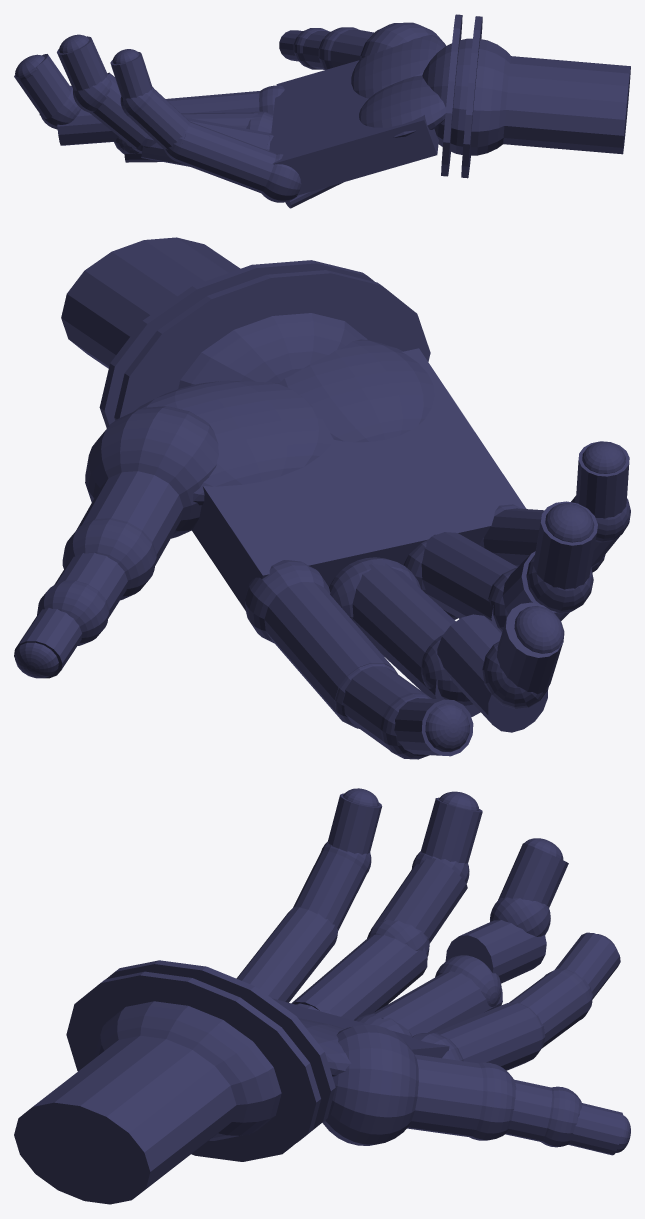
The model's file is hand.obj.
3 views of the same model, one above another, from view 1: azimuth 30°, elevation 25°; view 2: azimuth 150°, elevation 25°; view 3: azimuth 270°, elevation 25° (orthographic). The views are drawn at different scales.
Visible parts, largest first — view 1: Shape_Box.002_Shape_Box, Shape_Cylinder.066_Shape_Cylinder.008, Shape_Sphere.072_Shape_Sphere, Shape_Cylinder.058_Shape_Cylinder, Shape_Sphere.071_Shape_Sphere.010, Shape_Sphere.070_Shape_Sphere.009, Shape_Cylinder.054_Shape_Cylinder.002, Shape_Cylinder.059_Shape_Cylinder.001, Shape_Cylinder.049_Shape_Cylinder, Shape_Cylinder.057_Shape_Cylinder.002, Shape_Cylinder.056_Shape_Cylinder.001, Shape_Cylinder.053_Shape_Cylinder.001 (+21 smaller); view 2: Shape_Box.002_Shape_Box, Shape_Cylinder.064_Shape_Cylinder.006, Shape_Sphere.070_Shape_Sphere.009, Shape_Cylinder.066_Shape_Cylinder.008, Shape_Sphere.071_Shape_Sphere.010, Shape_Sphere.066_Shape_Sphere.005, Shape_Cylinder.049_Shape_Cylinder, Shape_Sphere.072_Shape_Sphere, Shape_Cylinder.052_Shape_Cylinder, Shape_Cylinder.055_Shape_Cylinder, Shape_Cylinder.053_Shape_Cylinder.001, Shape_Cylinder.065_Shape_Cylinder.007 (+25 smaller); view 3: Shape_Cylinder.066_Shape_Cylinder.008, Shape_Cylinder.065_Shape_Cylinder.007, Shape_Sphere.072_Shape_Sphere, Shape_Sphere.066_Shape_Sphere.005, Shape_Cylinder.055_Shape_Cylinder, Shape_Cylinder.058_Shape_Cylinder, Shape_Cylinder.061_Shape_Cylinder.003, Shape_Cylinder.064_Shape_Cylinder.006, Shape_Cylinder.049_Shape_Cylinder, Shape_Cylinder.052_Shape_Cylinder, Shape_Cylinder.056_Shape_Cylinder.001, Shape_Cylinder.053_Shape_Cylinder.001 (+15 smaller).
Part boxes in pixels (x1,y1,x2,y2): Shape_Box.002_Shape_Box: [269, 60, 438, 195]; Shape_Cylinder.066_Shape_Cylinder.008: [503, 56, 630, 154]; Shape_Sphere.072_Shape_Sphere: [422, 38, 510, 155]; Shape_Cylinder.058_Shape_Cylinder: [174, 121, 276, 193]; Shape_Sphere.071_Shape_Sphere.010: [359, 75, 445, 137]; Shape_Sphere.070_Shape_Sphere.009: [351, 35, 445, 98]; Shape_Cylinder.054_Shape_Cylinder.002: [14, 54, 71, 118]; Shape_Cylinder.059_Shape_Cylinder.001: [130, 90, 190, 149]; Shape_Cylinder.049_Shape_Cylinder: [166, 91, 260, 113]; Shape_Cylinder.057_Shape_Cylinder.002: [57, 36, 107, 91]; Shape_Cylinder.056_Shape_Cylinder.001: [90, 72, 148, 149]; Shape_Cylinder.053_Shape_Cylinder.001: [57, 109, 118, 145]; Shape_Box.002_Shape_Box: [191, 348, 526, 610]; Shape_Cylinder.064_Shape_Cylinder.006: [114, 270, 430, 420]; Shape_Sphere.070_Shape_Sphere.009: [133, 380, 333, 505]; Shape_Cylinder.066_Shape_Cylinder.008: [61, 237, 240, 368]; Shape_Sphere.071_Shape_Sphere.010: [279, 339, 434, 442]; Shape_Sphere.066_Shape_Sphere.005: [85, 406, 218, 538]; Shape_Cylinder.049_Shape_Cylinder: [264, 582, 397, 721]; Shape_Sphere.072_Shape_Sphere: [178, 313, 367, 388]; Shape_Cylinder.052_Shape_Cylinder: [352, 563, 480, 716]; Shape_Cylinder.055_Shape_Cylinder: [421, 532, 517, 626]; Shape_Cylinder.053_Shape_Cylinder.001: [437, 614, 547, 732]; Shape_Cylinder.065_Shape_Cylinder.007: [99, 260, 374, 428]; Shape_Cylinder.066_Shape_Cylinder.008: [14, 1035, 236, 1204]; Shape_Cylinder.065_Shape_Cylinder.007: [66, 971, 320, 1161]; Shape_Sphere.072_Shape_Sphere: [95, 1001, 281, 1140]; Shape_Sphere.066_Shape_Sphere.005: [322, 1024, 418, 1145]; Shape_Cylinder.055_Shape_Cylinder: [291, 934, 427, 1020]; Shape_Cylinder.058_Shape_Cylinder: [236, 906, 335, 1002]; Shape_Cylinder.061_Shape_Cylinder.003: [407, 1054, 483, 1136]; Shape_Cylinder.064_Shape_Cylinder.006: [106, 960, 335, 1142]; Shape_Cylinder.049_Shape_Cylinder: [434, 1003, 542, 1070]; Shape_Cylinder.052_Shape_Cylinder: [372, 971, 502, 1036]; Shape_Cylinder.056_Shape_Cylinder.001: [370, 858, 467, 943]; Shape_Cylinder.053_Shape_Cylinder.001: [445, 920, 546, 983].
Size of the model in its own units: 7.95 by 2.6 by 6.85.
